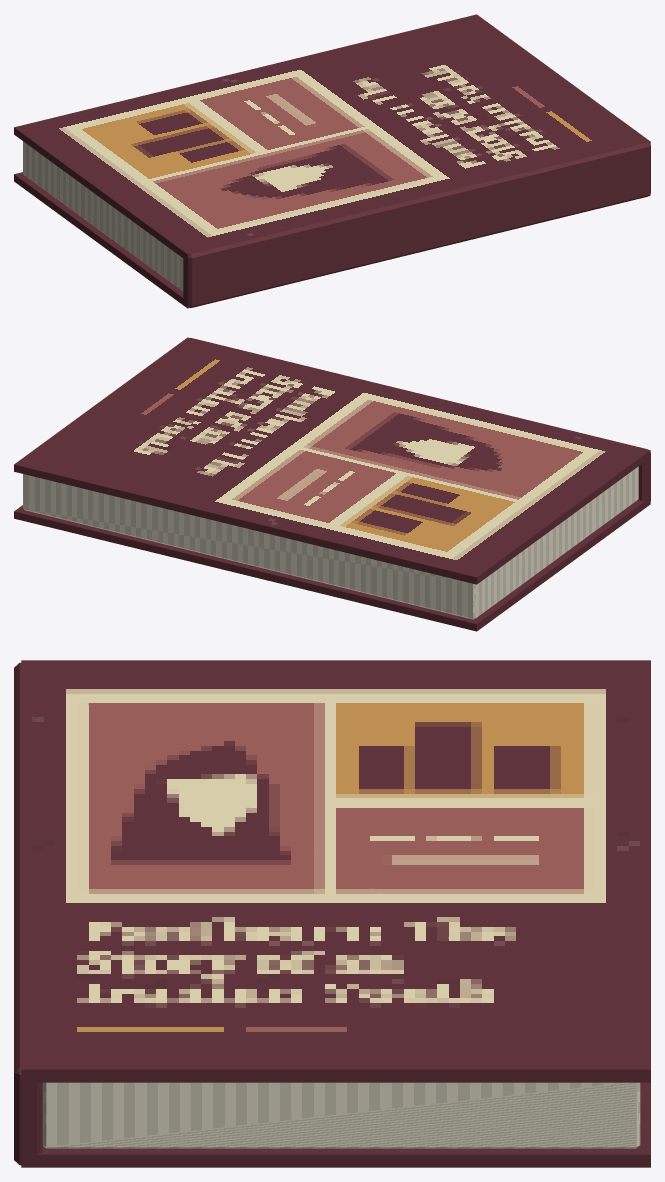
Rendered from novel_coa2.glb.
3 renders of one model, top to bottom at view 1: azimuth 30°, elevation 25°; view 2: azimuth 150°, elevation 25°; view 3: azimuth 270°, elevation 25°, orthographic. The views are drawn at different scales.
Parts seen in each view (by area): view 1: block_front, block_spine, block_pages, block_back; view 2: block_front, block_pages, block_back, block_spine; view 3: block_front, block_pages, block_back, block_spine.
Part boxes in pixels (left/top/right/bottom): block_front: left=14, top=14, right=650, bottom=261; block_spine: left=183, top=140, right=650, bottom=307; block_pages: left=23, top=141, right=183, bottom=290; block_back: left=14, top=172, right=650, bottom=308; block_front: left=14, top=337, right=650, bottom=584; block_pages: left=23, top=466, right=638, bottom=619; block_back: left=14, top=500, right=650, bottom=631; block_spine: left=188, top=338, right=650, bottom=504; block_front: left=21, top=660, right=650, bottom=1082; block_pages: left=42, top=1082, right=640, bottom=1148; block_back: left=21, top=1082, right=650, bottom=1167; block_spine: left=14, top=662, right=42, bottom=1165.
Bounding box in the file's own units: 0.27 × 0.0302 × 0.1775.
1 material, 1 textured.
